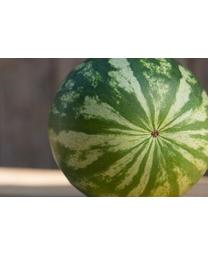watermelon: (50, 59, 206, 197)
